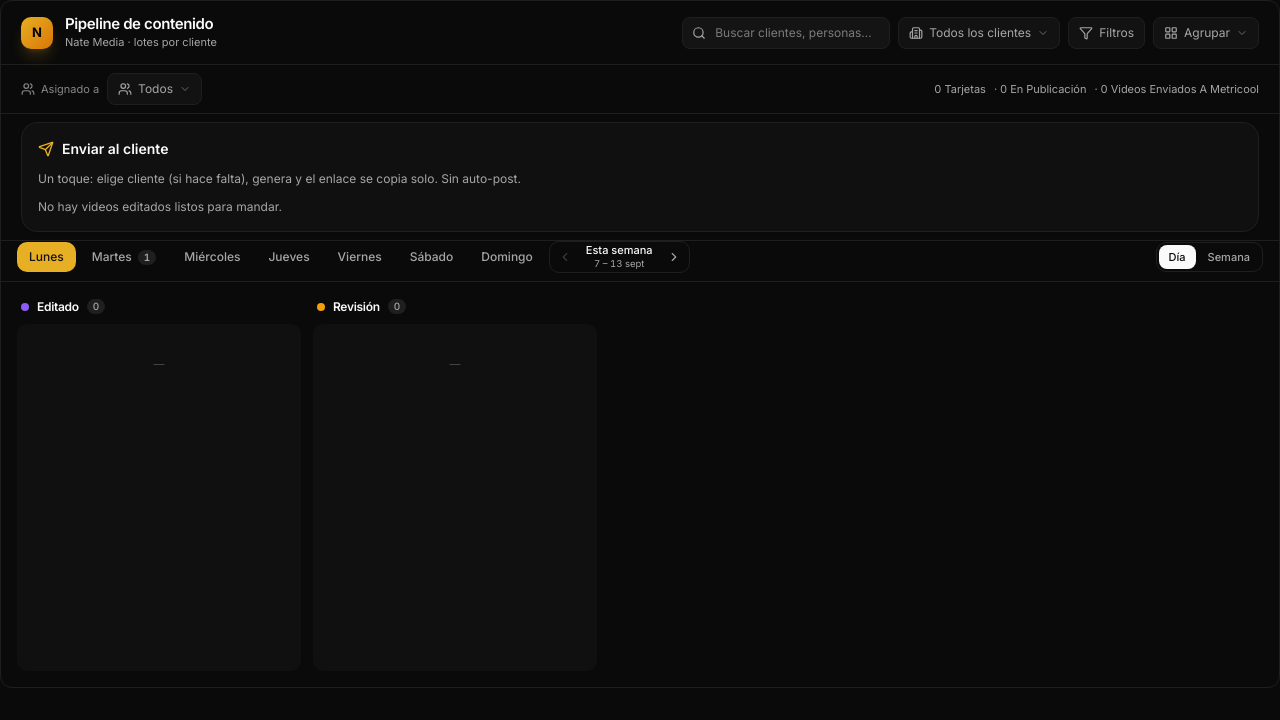
Test: EntregasBoard — vista semana › pulsar un día abre ese día en el tablero
Click the button "Semana" at (1229, 257), box [1198,245,1260,269]
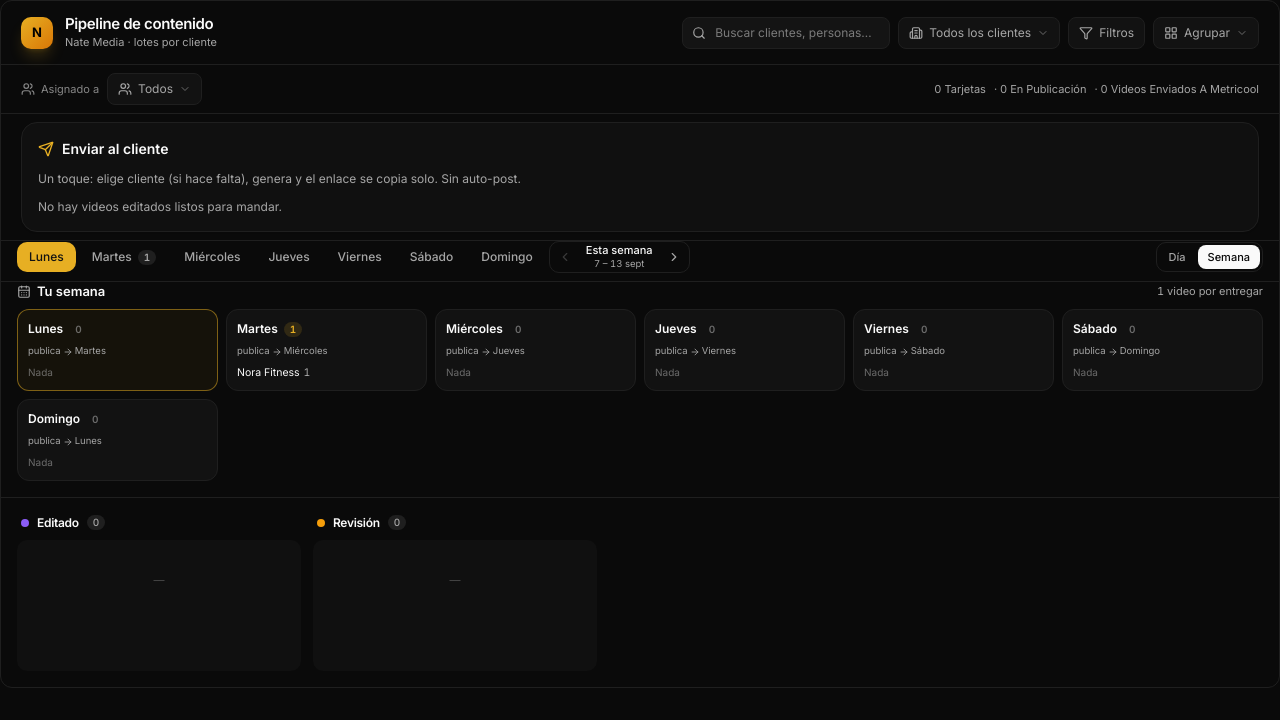
Click the button with aria-label "Abrir Martes" at (326, 350), box [226,309,427,391]
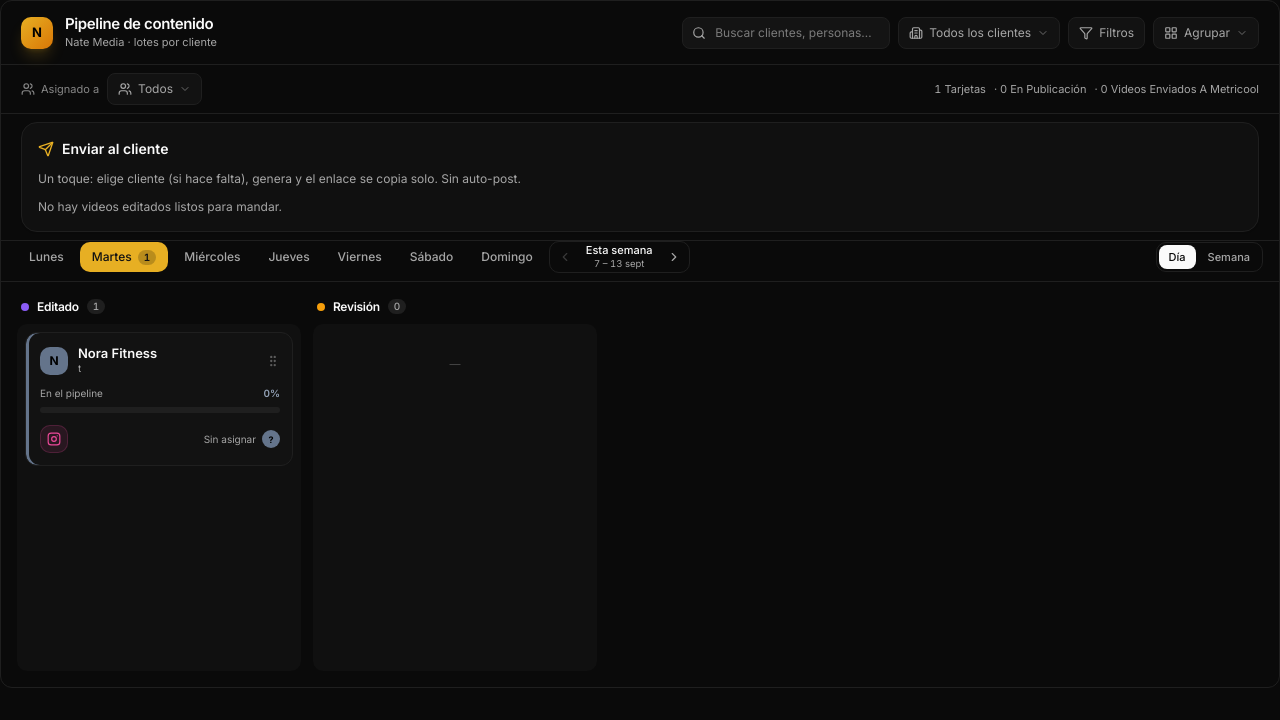
Expected: the text "Tu semana" is gone
